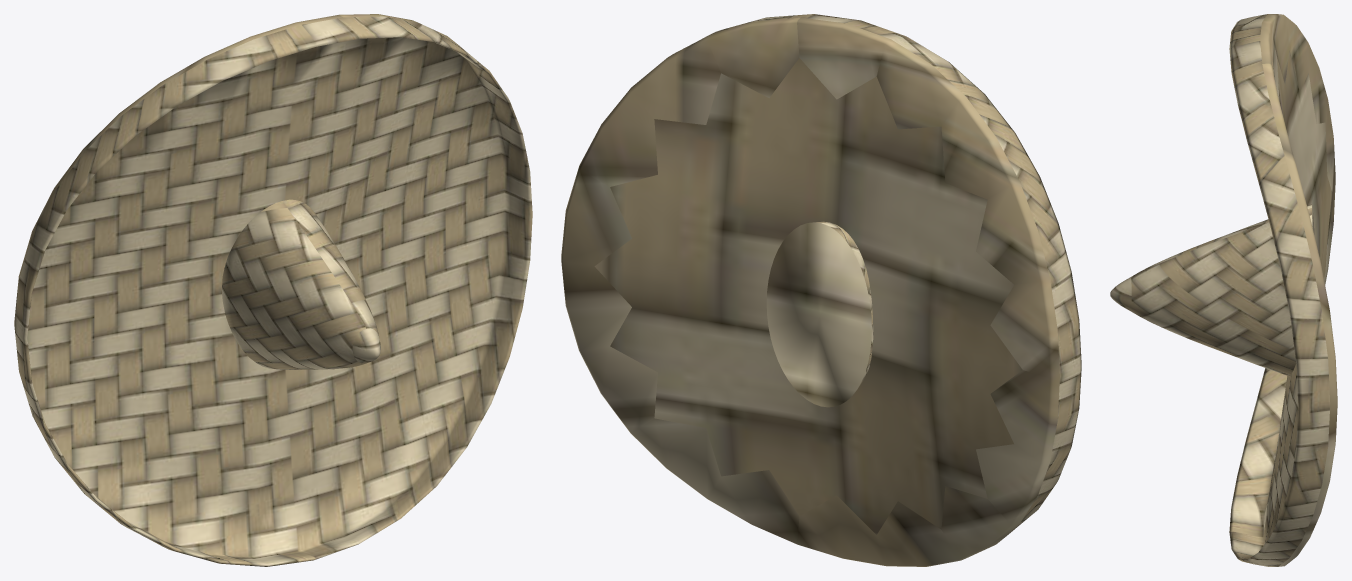
The model's file is SombreroMat.obj.
3 views of the same model, side by side, from view 1: azimuth 30°, elevation 25°; view 2: azimuth 150°, elevation 25°; view 3: azimuth 270°, elevation 25° (orthographic). The views are drawn at different scales.
Parts seen in each view (by area): view 1: Sombrero; view 2: Sombrero; view 3: Sombrero.
Boxes of the visible parts, box(x1,y1,x2,y2) form: Sombrero: box(14, 14, 532, 566); Sombrero: box(561, 14, 1081, 566); Sombrero: box(1110, 14, 1337, 566).
Size of the model in its own units: 101 by 101 by 41.4.
